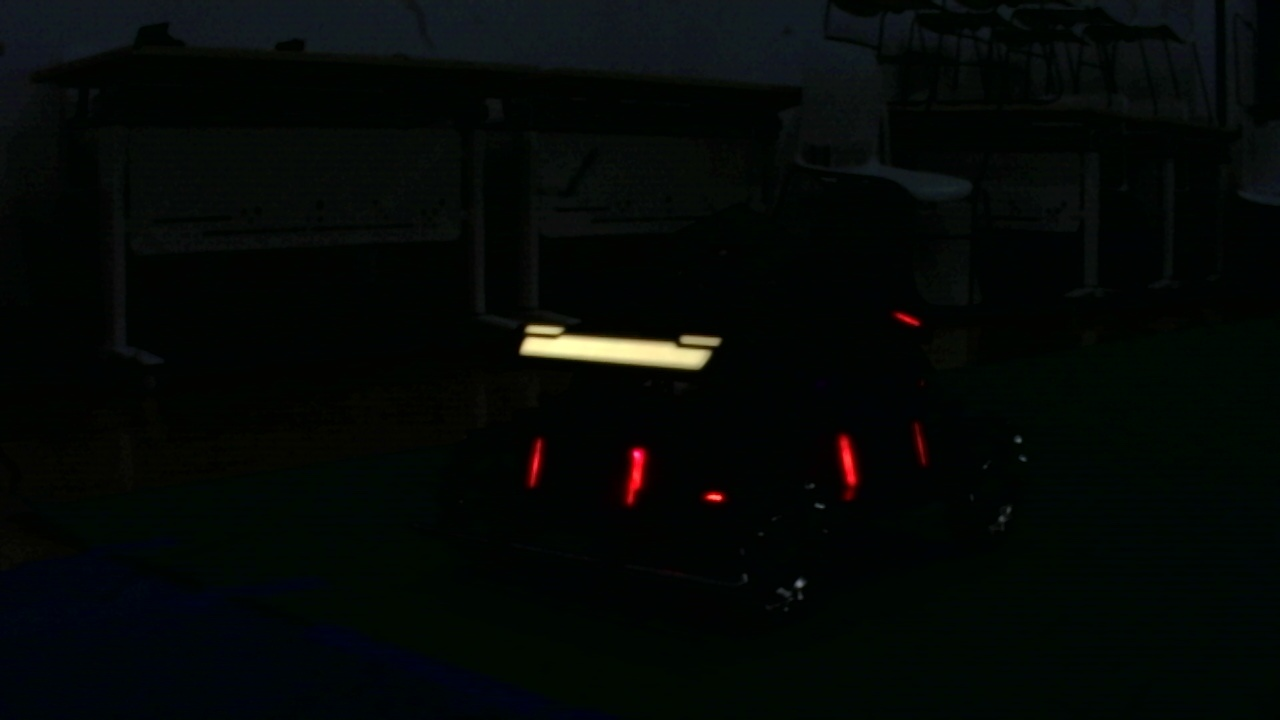lamp: (625, 433, 648, 506), (836, 426, 860, 494), (526, 435, 543, 487)
notpair1: (625, 427, 861, 509)
pair1: (527, 438, 646, 505)
